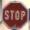Stop sign: (0, 0, 29, 29)
